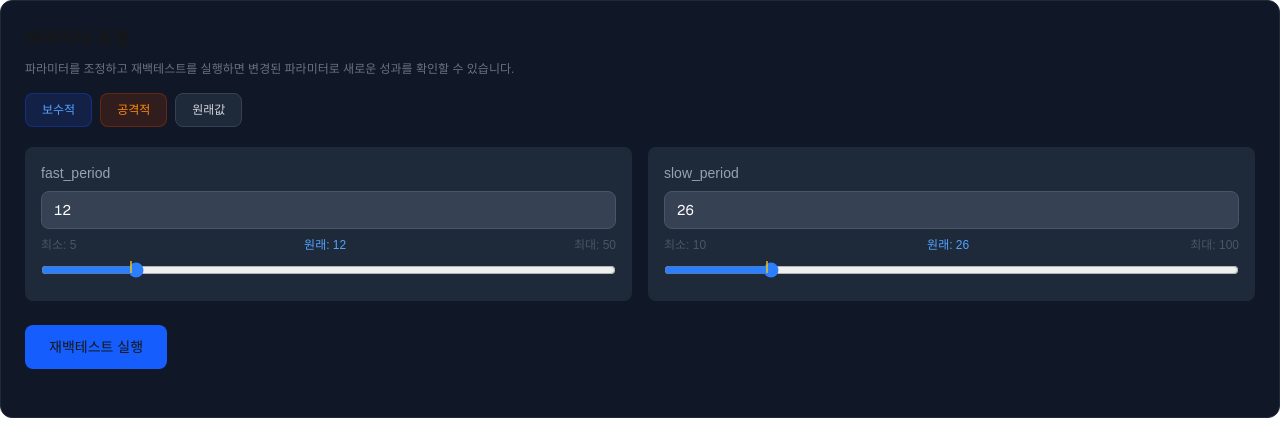
ParamAdjustTab › applies conservative preset (25% toward min)
Click the button "보수적".
click(59, 110)  # box [25,93,92,127]
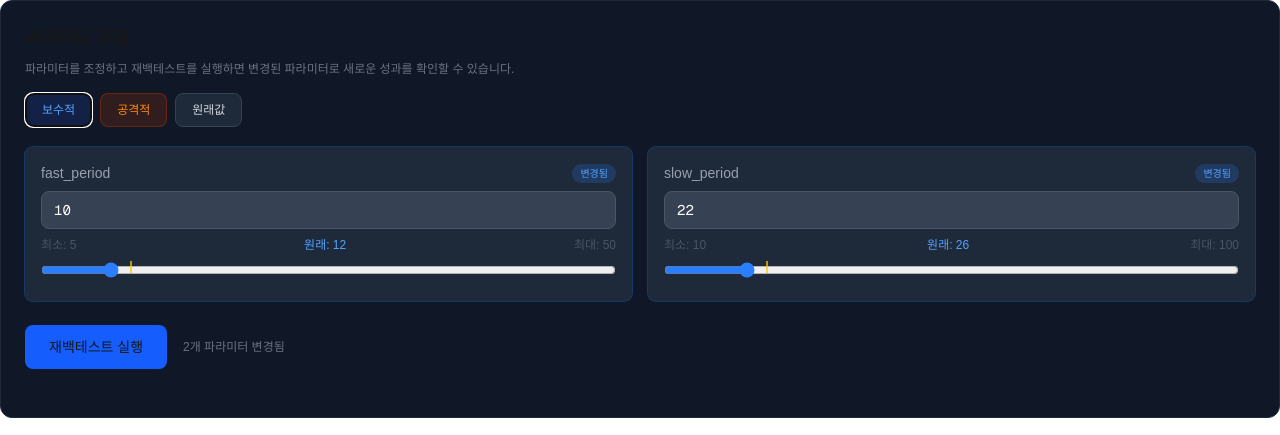
Expected: the number field below "fast_period" holds "10", [41,191,616,229]
Expected: the number field below "slow_period" holds "22", [664,191,1239,229]
